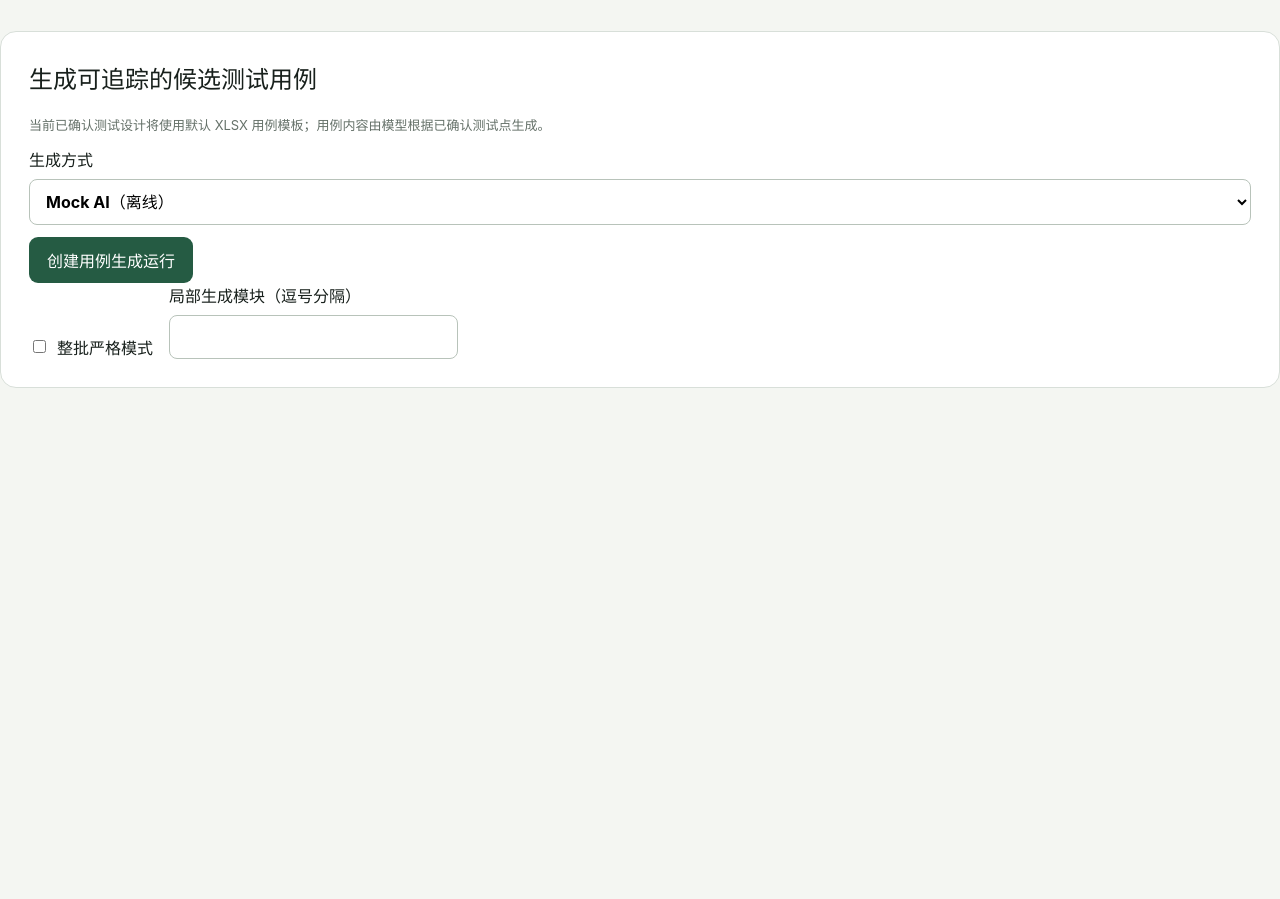
Test: 测试工程师可以从受控运行生成并查看带追踪关系和设计依据的候选用例
Click the button "创建用例生成运行": [111, 260] box [29,237,193,283]
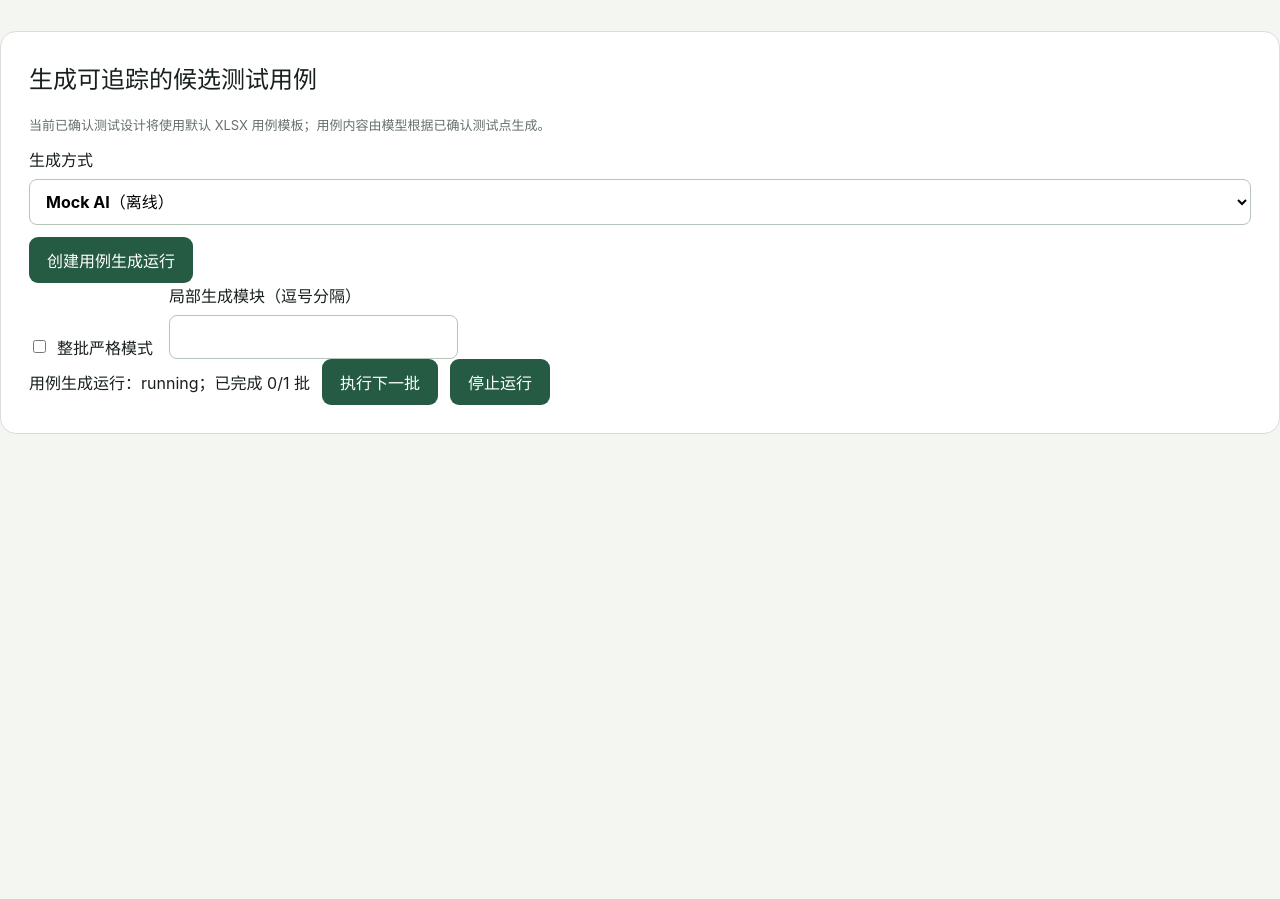
Click the button "执行下一批": [380, 382] box [322,359,438,405]
(page scrolled)
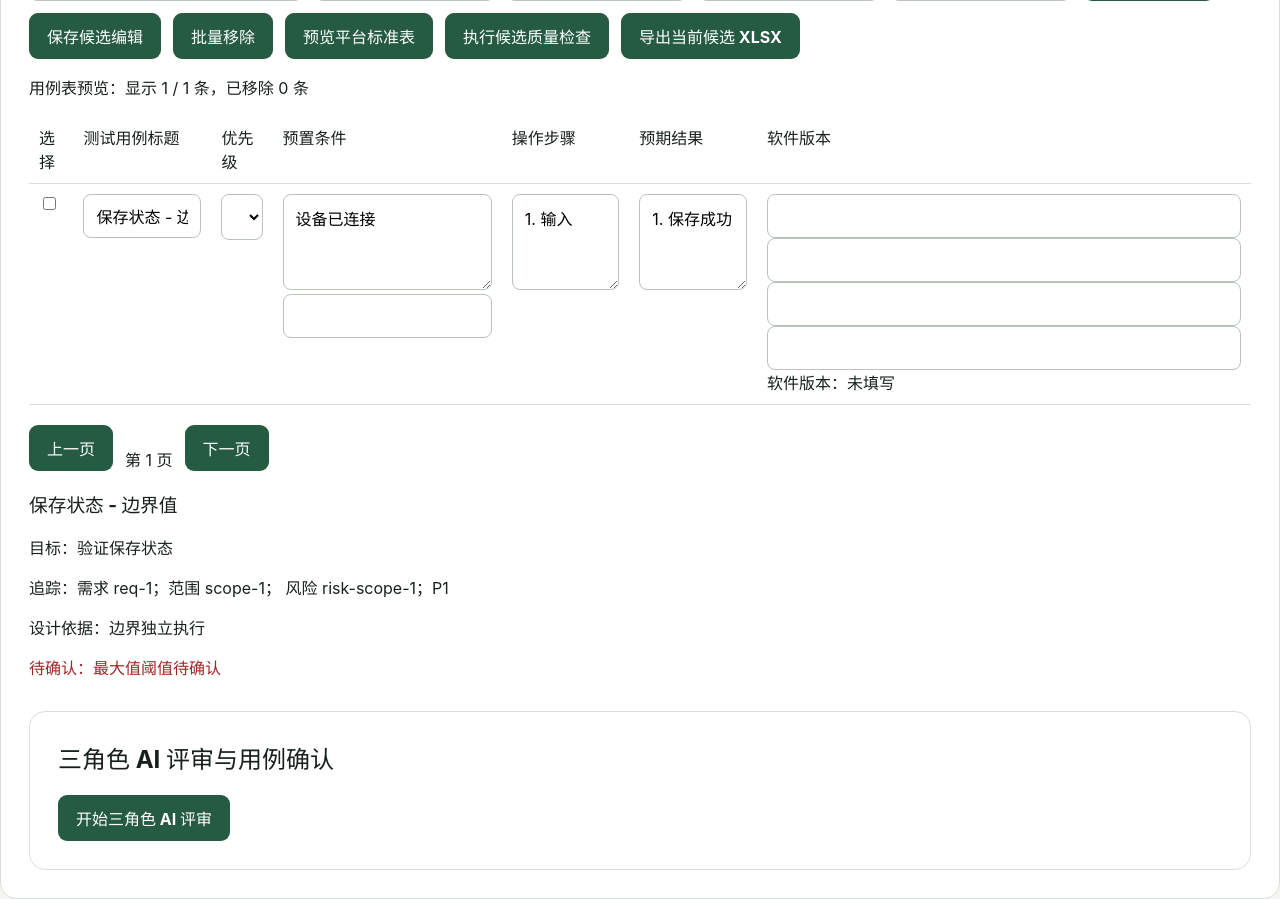
Expected: the heading "保存状态 - 边界值" is shown, [29,494,178,517]
Expected: the text "追踪：需求 req-1；范围 scope-1； 风险 risk-scope-1；P1" is shown, [29,578,449,598]
Expected: the text "设计依据：边界独立执行" is shown, [29,618,205,638]
